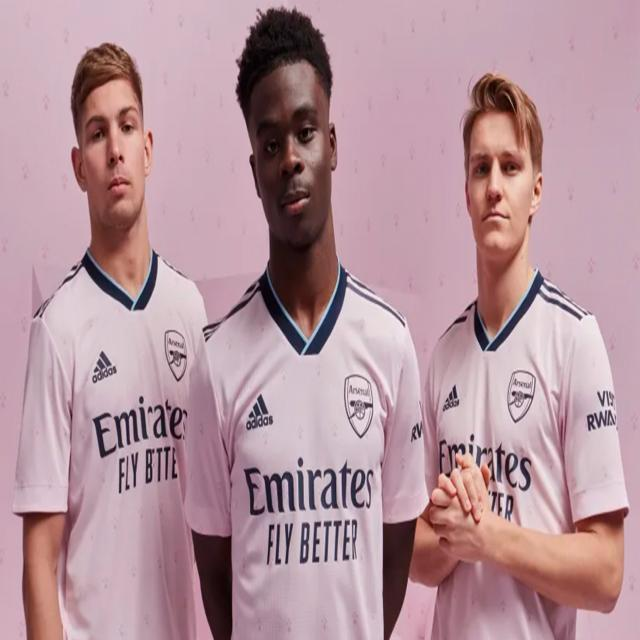Adidas: (245, 389, 274, 432), (92, 347, 116, 385), (443, 380, 460, 410)
Emirates: (244, 452, 374, 514), (92, 393, 192, 456), (437, 432, 532, 494)
